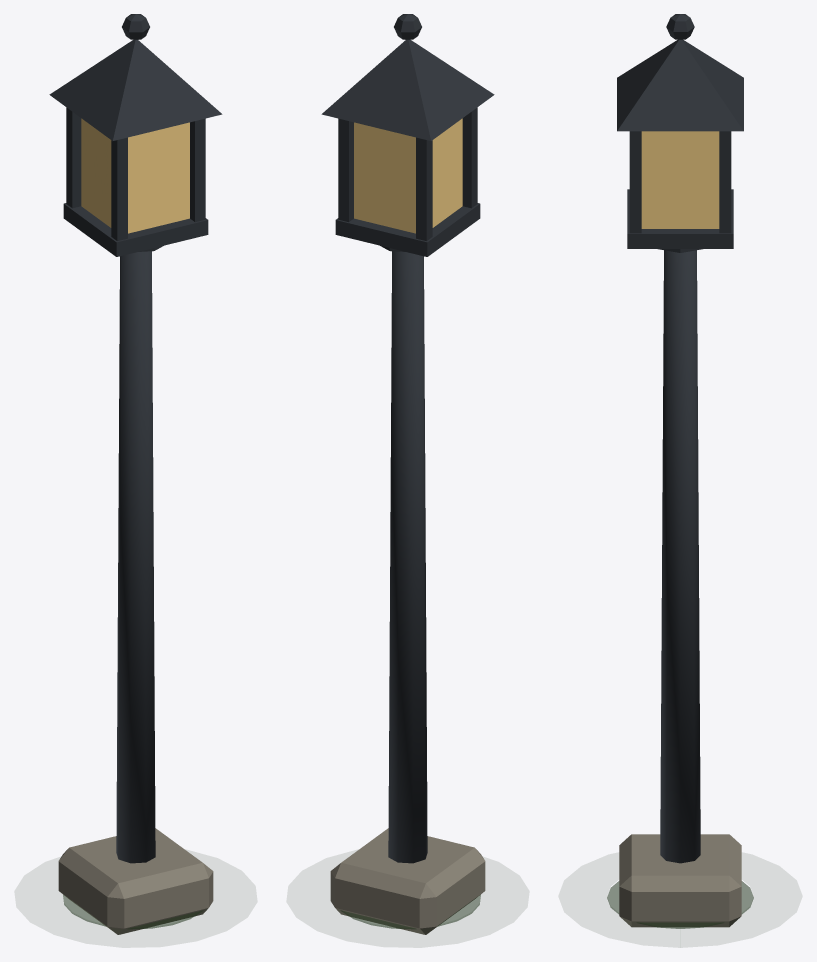
File: lantern.glb
3 renders of one model, left to right at view 1: azimuth 30°, elevation 25°; view 2: azimuth 150°, elevation 25°; view 3: azimuth 270°, elevation 25°, orthographic.
Parts seen in each view (by area): view 1: lantern; view 2: lantern; view 3: lantern.
Part boxes in pixels (x1,y1,x2,y2): lantern: (49, 14, 222, 934); lantern: (321, 14, 494, 934); lantern: (607, 14, 753, 947).
Size of the model in its own units: 0.6 by 2.41 by 0.6.
